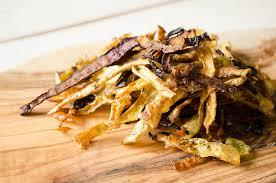Organic: (29, 23, 276, 182)
